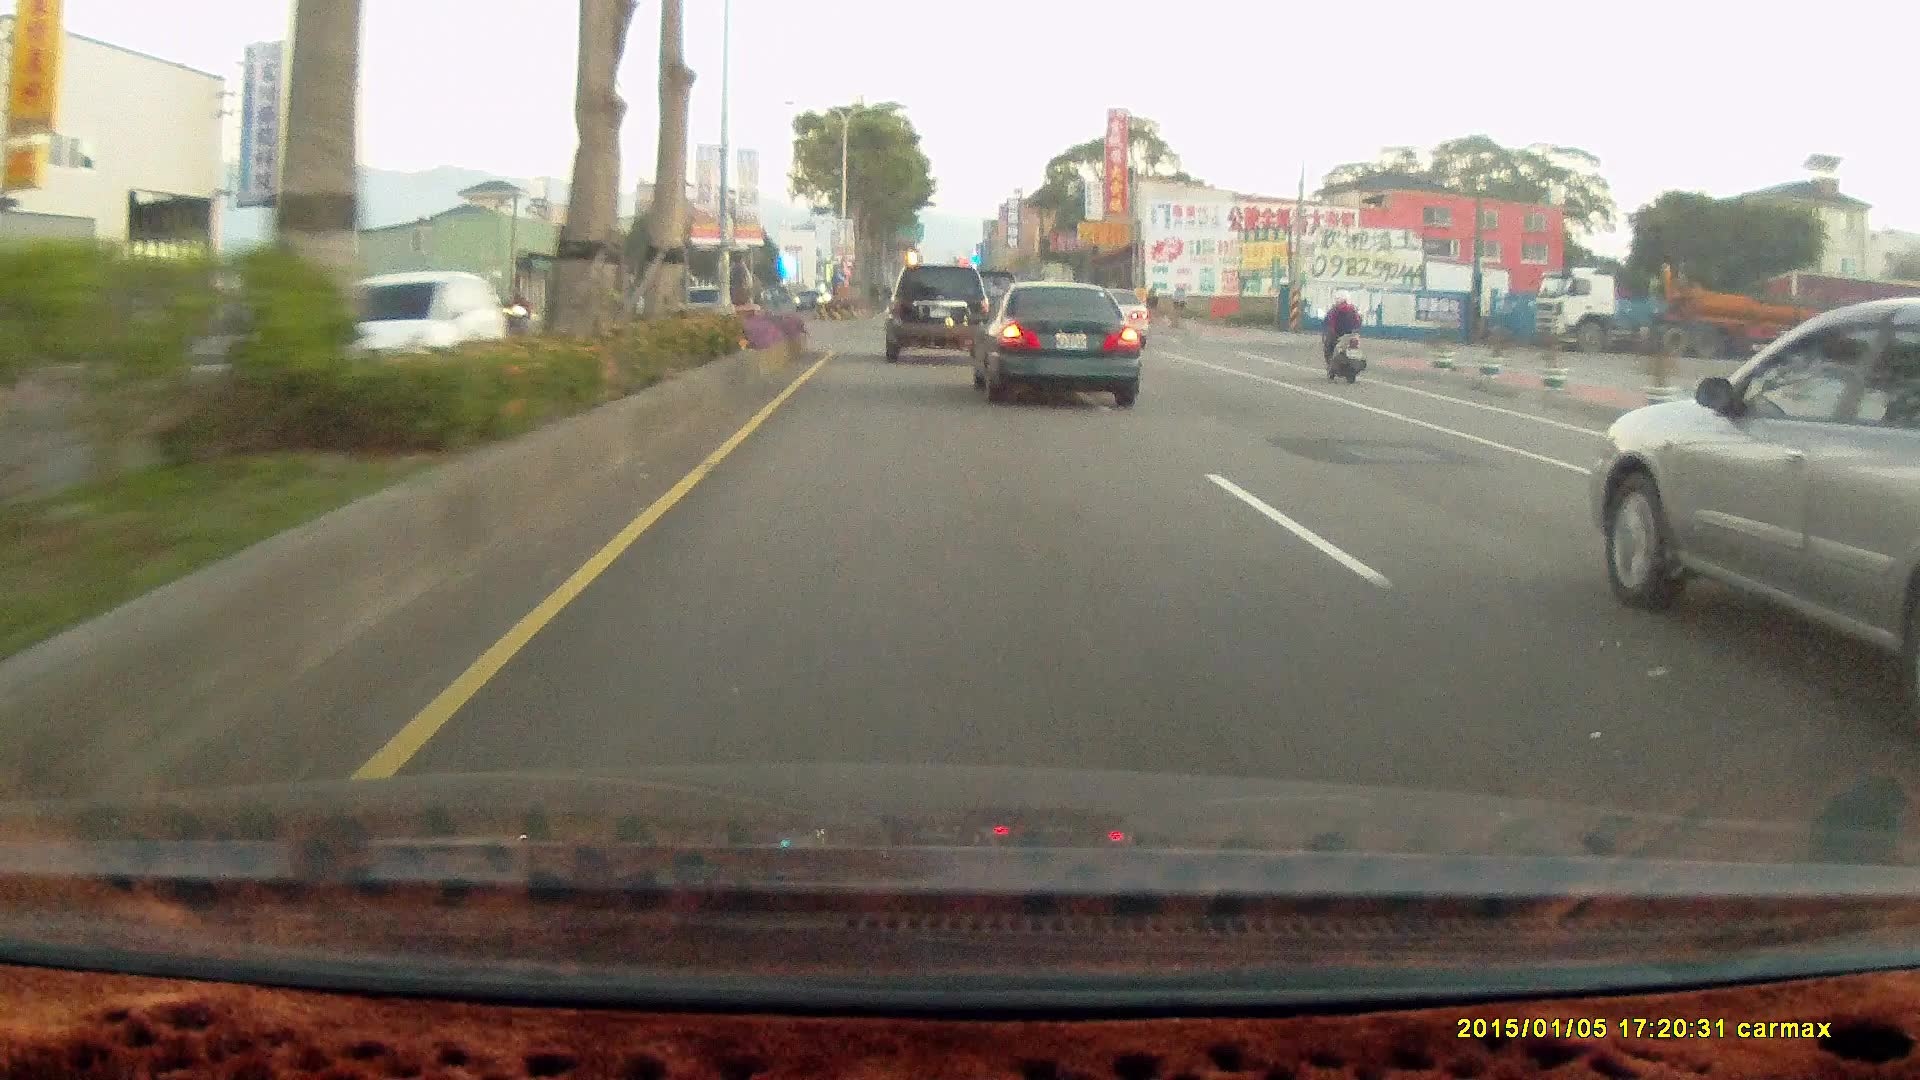rider: (1310, 283, 1375, 391), (1312, 292, 1368, 388), (499, 293, 534, 352)
vehicle: (1599, 296, 1920, 733), (1529, 265, 1908, 365), (317, 270, 508, 399), (317, 269, 507, 398), (964, 287, 1137, 413), (974, 291, 1142, 412), (885, 264, 994, 367), (883, 262, 990, 363)
